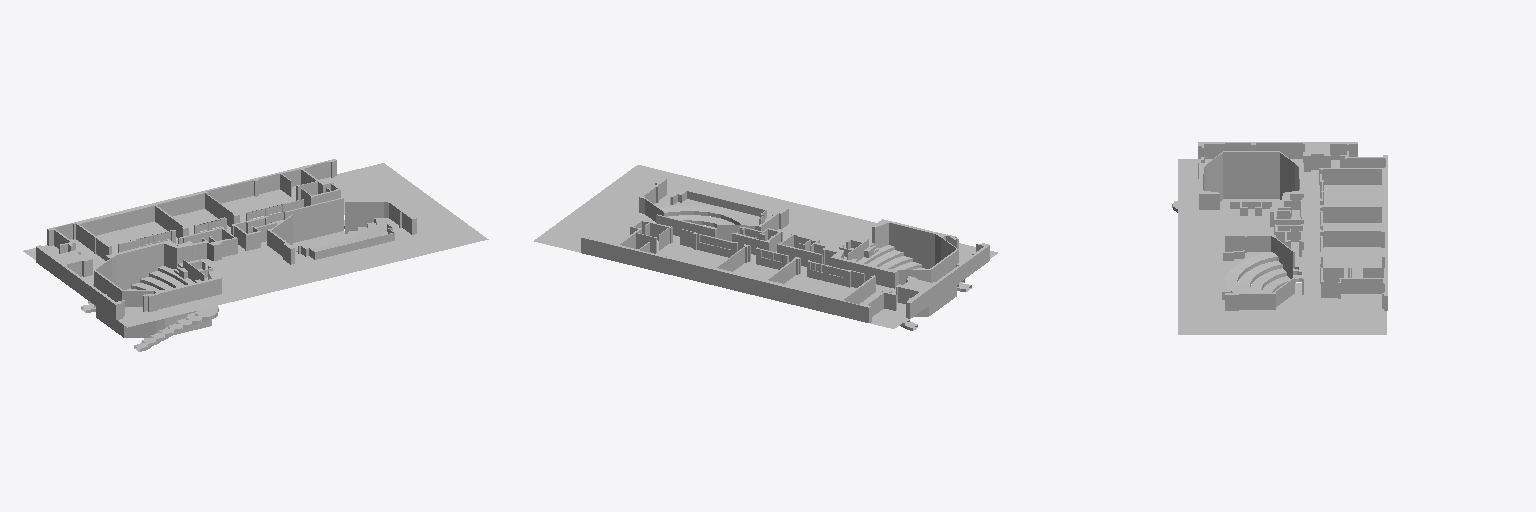
File: computer_science_building.obj
3 views of the same model, side by side, from view 1: azimuth 30°, elevation 25°; view 2: azimuth 150°, elevation 25°; view 3: azimuth 270°, elevation 25° (orthographic).
Parts seen in each view (by area): view 1: Floor_Plane, Classroom_Walls_Cube, Room2_Walls_Cube.002, Room1_Walls_Cube.003, West_Wall_Cube.001, Room2_Stairs_Cylinder, Room1_Stairs_Cylinder.001; view 2: Floor_Plane, Classroom_Walls_Cube, Room2_Walls_Cube.002, Room1_Walls_Cube.003, West_Wall_Cube.001, Room1_Stairs_Cylinder.001, Room2_Stairs_Cylinder; view 3: Floor_Plane, Classroom_Walls_Cube, Room2_Walls_Cube.002, Room1_Walls_Cube.003, West_Wall_Cube.001, Room1_Stairs_Cylinder.001.
Part boxes in pixels (x1,y1,x2,y2): Floor_Plane: (23,163,488,327); Classroom_Walls_Cube: (47,159,340,311); Room2_Walls_Cube.002: (94,240,221,337); Room1_Walls_Cube.003: (267,197,416,264); West_Wall_Cube.001: (36,245,124,319); Room2_Stairs_Cylinder: (81,266,218,351); Room1_Stairs_Cylinder.001: (265,218,389,251); Floor_Plane: (534,165,997,328); Classroom_Walls_Cube: (581,220,958,322); Room2_Walls_Cube.002: (830,219,958,316); Room1_Walls_Cube.003: (639,178,788,240); West_Wall_Cube.001: (896,243,989,318); Room1_Stairs_Cylinder.001: (638,205,754,228); Room2_Stairs_Cylinder: (858,245,971,330); Floor_Plane: (1178,159,1386,334); Classroom_Walls_Cube: (1198,151,1387,310); Room2_Walls_Cube.002: (1199,151,1303,215); Room1_Walls_Cube.003: (1222,234,1303,310); West_Wall_Cube.001: (1198,142,1357,171); Room1_Stairs_Cylinder.001: (1225,252,1301,308).
Size of the model in its own units: 24.1 by 3.23 by 12.38.